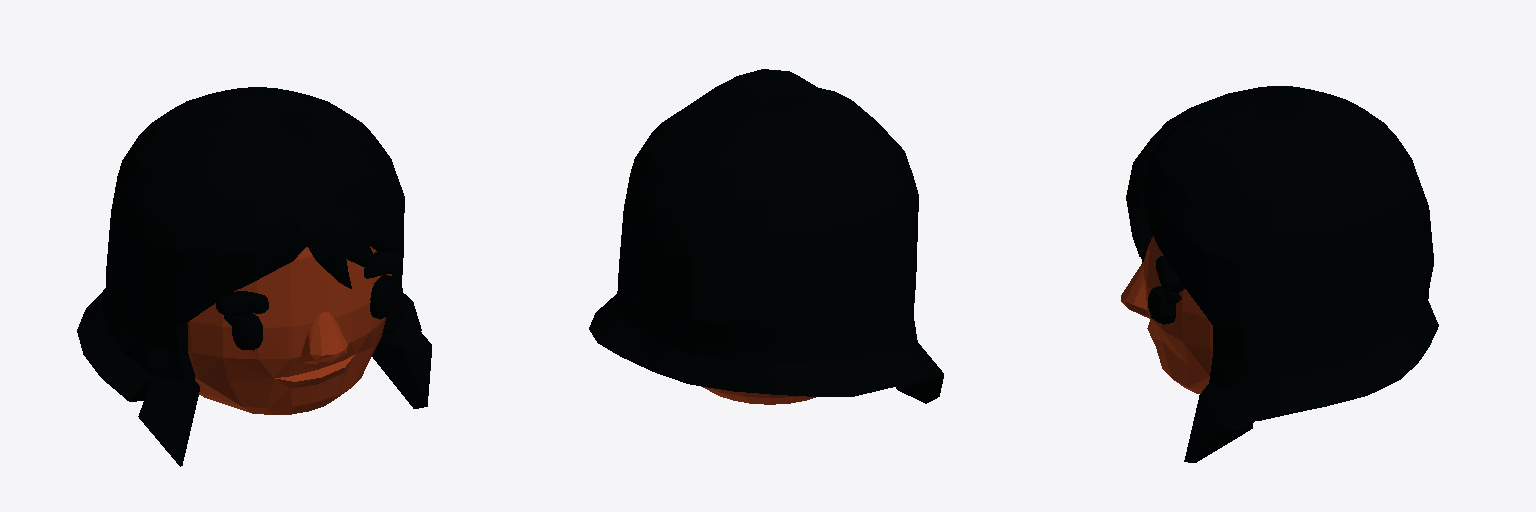
Rendered from character_merchantHead.obj.
3 views of the same model, side by side, from view 1: azimuth 30°, elevation 25°; view 2: azimuth 150°, elevation 25°; view 3: azimuth 270°, elevation 25° (orthographic).
Parts seen in each view (by area): view 1: character_merchantHead_Cube.5988; view 2: character_merchantHead_Cube.5988; view 3: character_merchantHead_Cube.5988.
Boxes of the visible parts, x1,y1,x2,y2 form: character_merchantHead_Cube.5988: [77, 87, 431, 466]; character_merchantHead_Cube.5988: [589, 69, 943, 404]; character_merchantHead_Cube.5988: [1121, 86, 1438, 462].
Size of the model in its own units: 1.31 by 1.21 by 1.16.